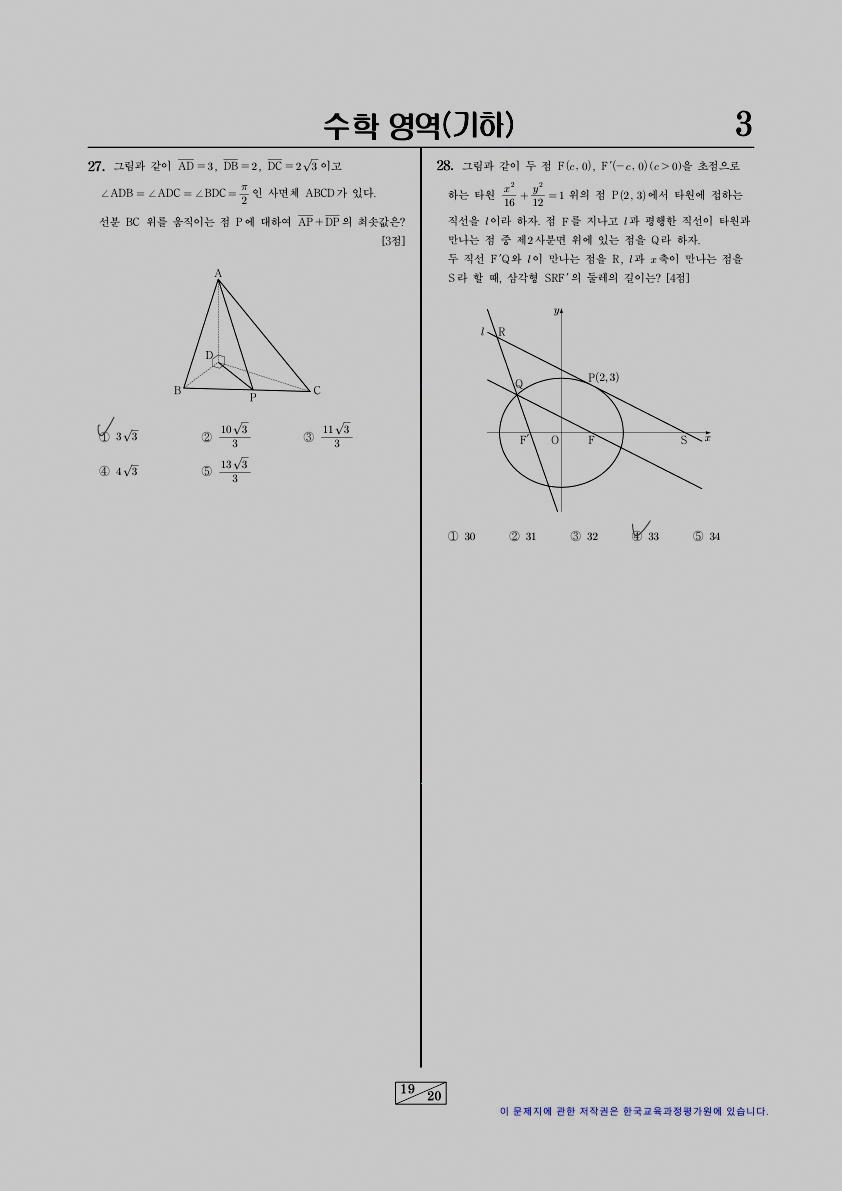question: (421, 152, 763, 560), (74, 149, 412, 504)
